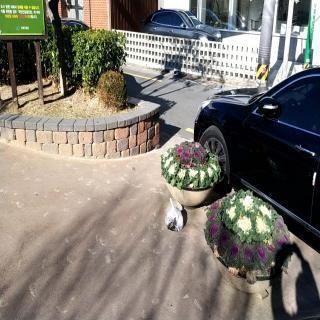Garbage: (163, 194, 187, 235)
